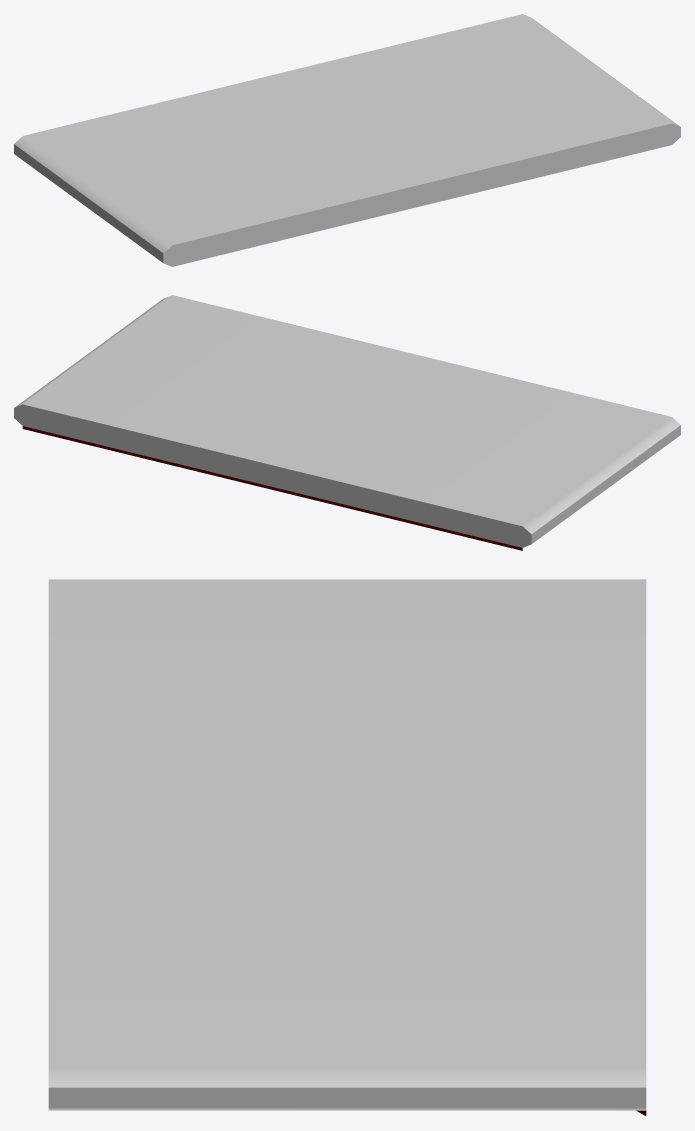
File: Letter.fbx
3 renders of one model, top to bottom at view 1: azimuth 30°, elevation 25°; view 2: azimuth 150°, elevation 25°; view 3: azimuth 270°, elevation 25°, orthographic. The views are drawn at different scales.
Visible parts, largest first — view 1: Letter; view 2: Letter; view 3: Letter.
Part boxes in pixels (x1,y1,x2,y2): Letter: [14, 14, 680, 266]; Letter: [14, 295, 680, 550]; Letter: [48, 579, 646, 1115].
Bounding box in the file's own units: 5 × 0.2272 × 2.5.
